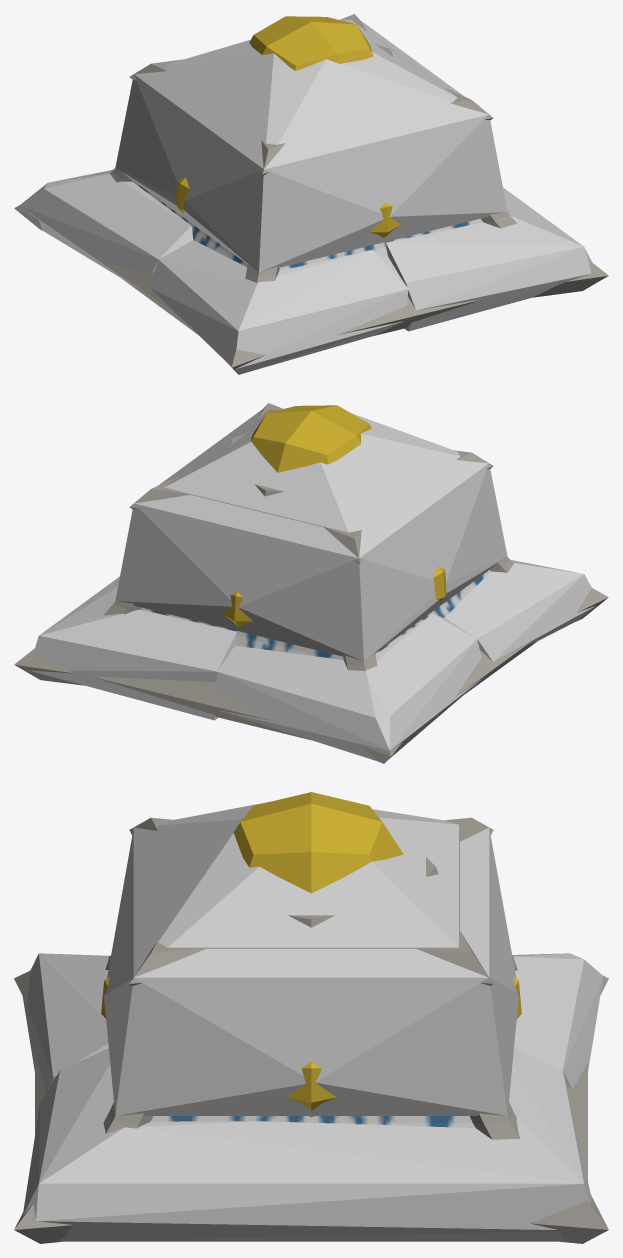
File: SM_Prop_Ornament_02_Lid_01.fbx
3 views of the same model, one above another, from view 1: azimuth 30°, elevation 25°; view 2: azimuth 150°, elevation 25°; view 3: azimuth 270°, elevation 25° (orthographic). The views are drawn at different scales.
Visible parts, largest first — view 1: SM_Prop_Ornament_02_Lid_01_ConvexHulls, SM_Prop_Ornament_02_Lid_01; view 2: SM_Prop_Ornament_02_Lid_01_ConvexHulls, SM_Prop_Ornament_02_Lid_01; view 3: SM_Prop_Ornament_02_Lid_01_ConvexHulls, SM_Prop_Ornament_02_Lid_01.
Boxes of the visible parts, box(x1,y1,x2,y2) form: SM_Prop_Ornament_02_Lid_01_ConvexHulls: box(19, 19, 592, 374); SM_Prop_Ornament_02_Lid_01: box(14, 14, 608, 374); SM_Prop_Ornament_02_Lid_01_ConvexHulls: box(29, 408, 595, 761); SM_Prop_Ornament_02_Lid_01: box(14, 403, 608, 763); SM_Prop_Ornament_02_Lid_01_ConvexHulls: box(22, 802, 602, 1241); SM_Prop_Ornament_02_Lid_01: box(14, 792, 608, 1243).
Size of the model in its own units: 32.46 by 32.46 by 19.82.
Materials: 2 (1 with a texture image).
